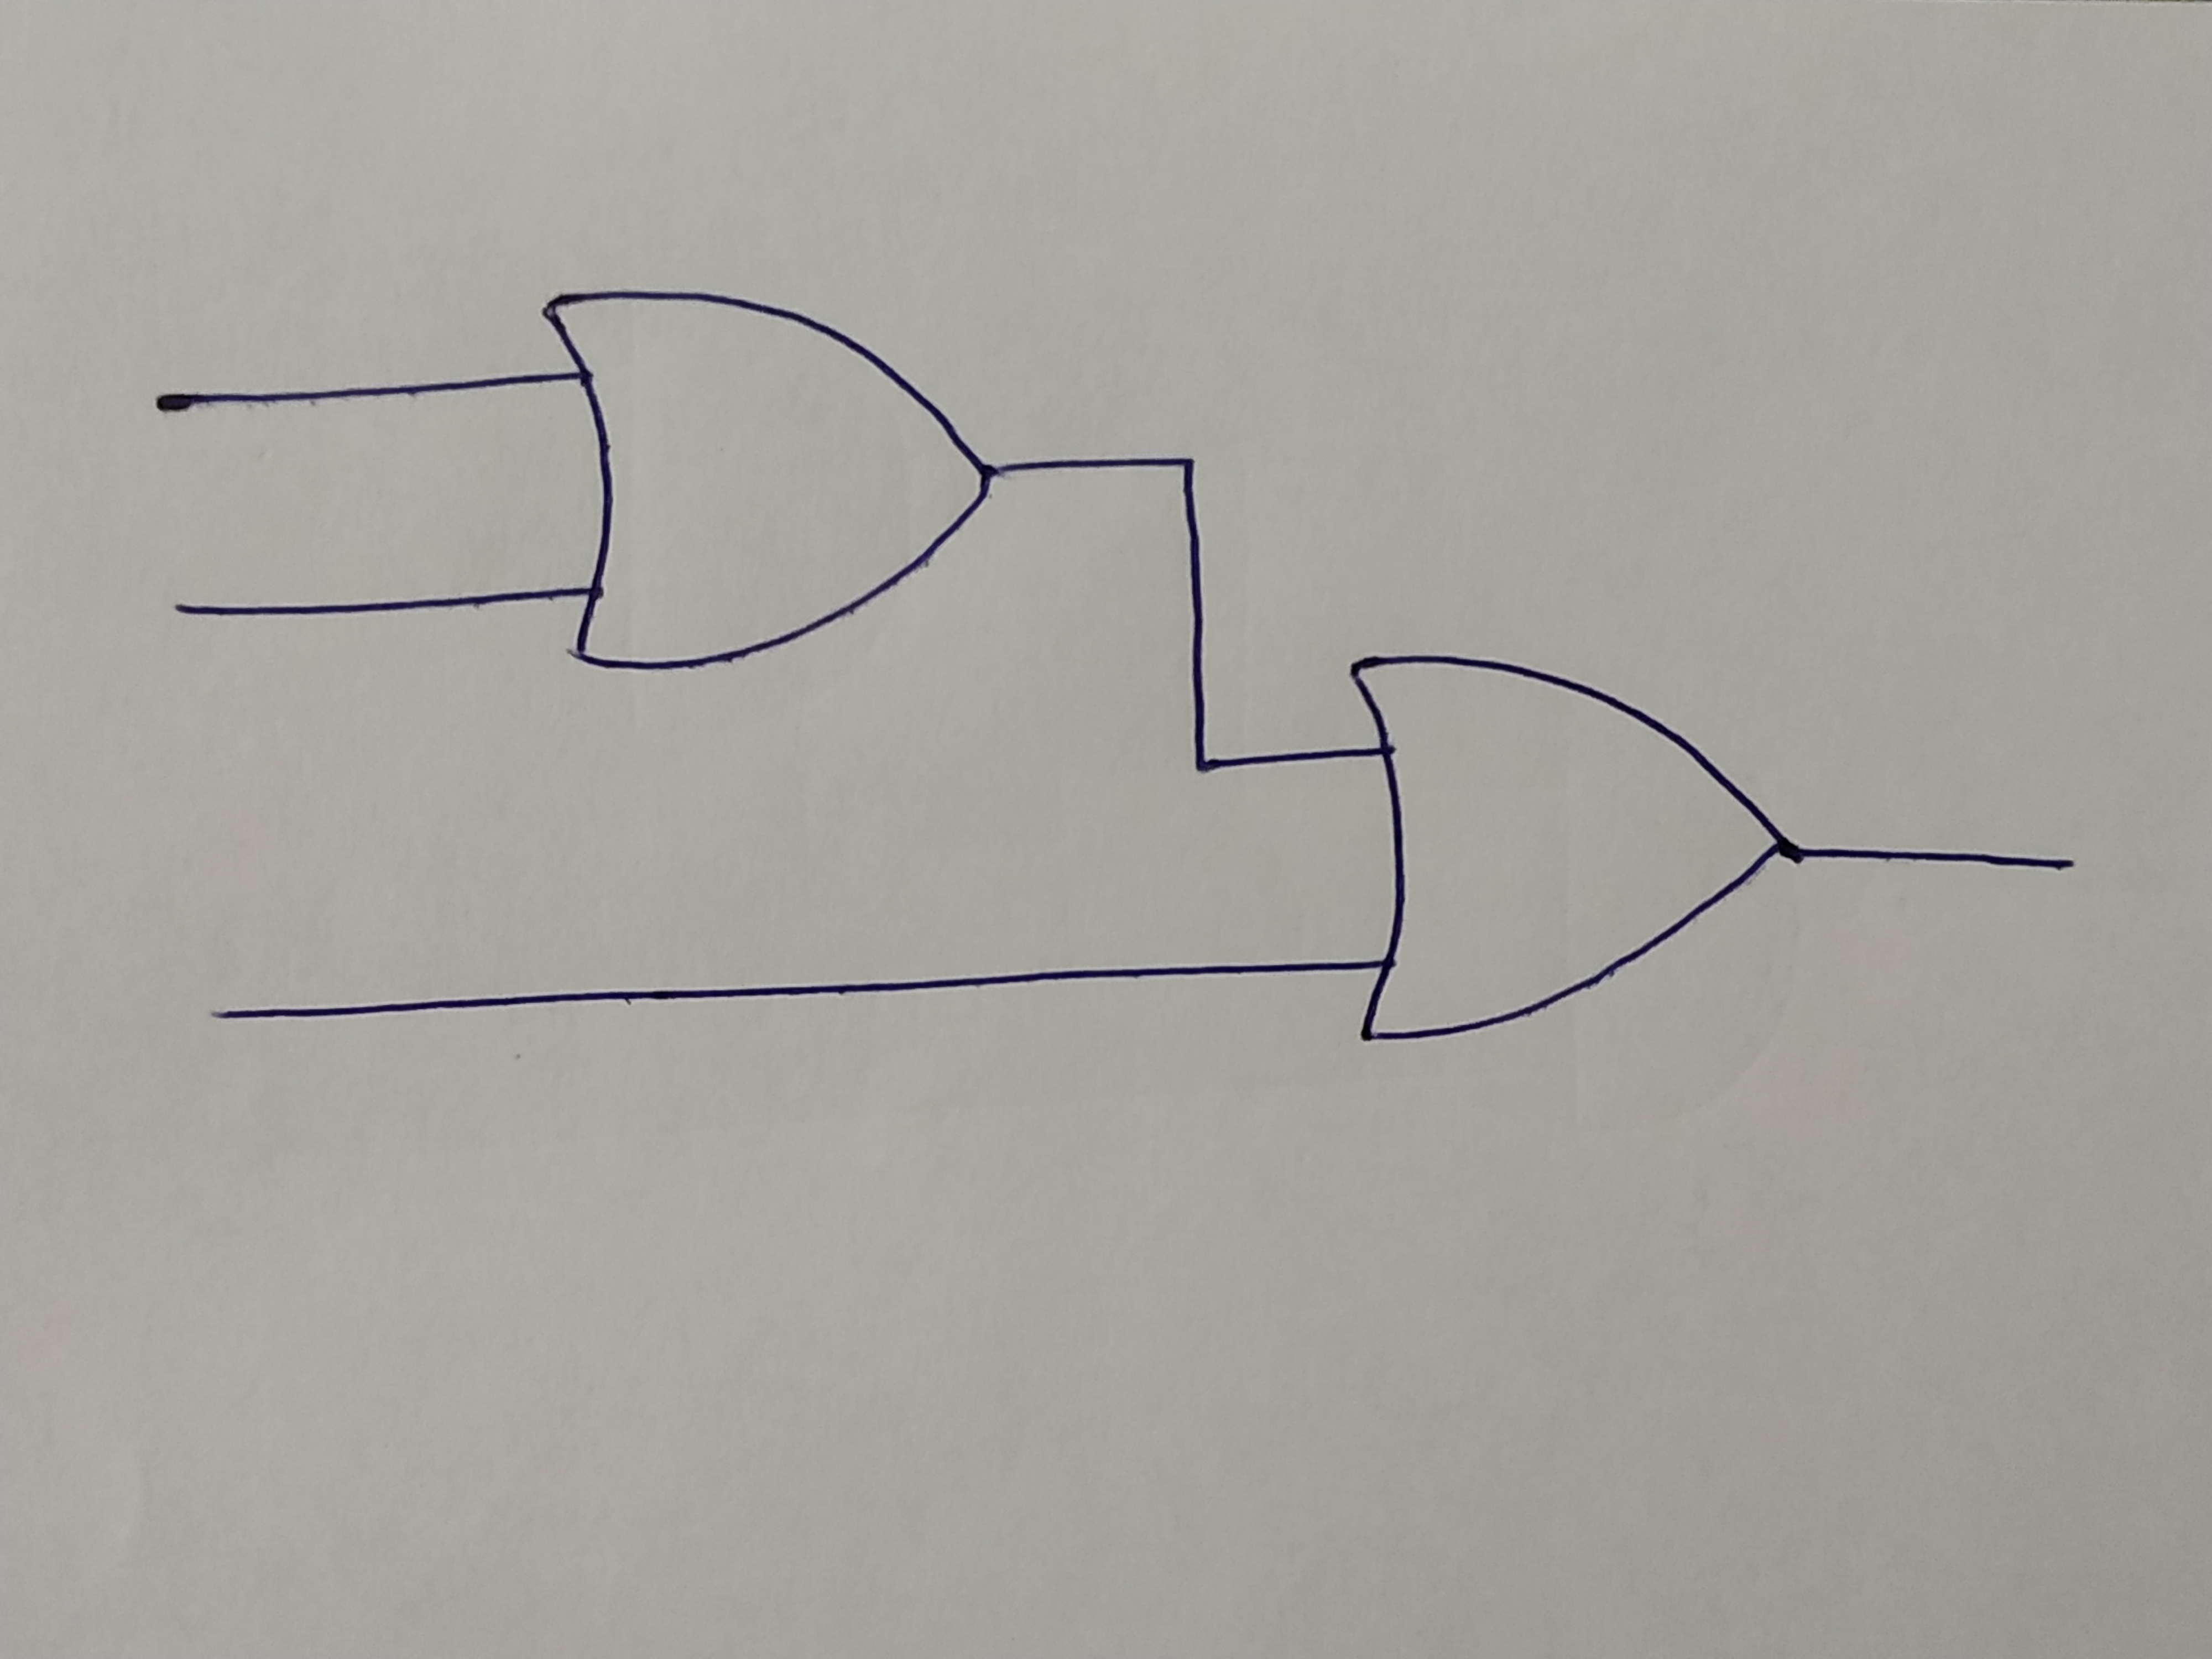or: (540, 282, 981, 667), (1345, 657, 1778, 1046)
